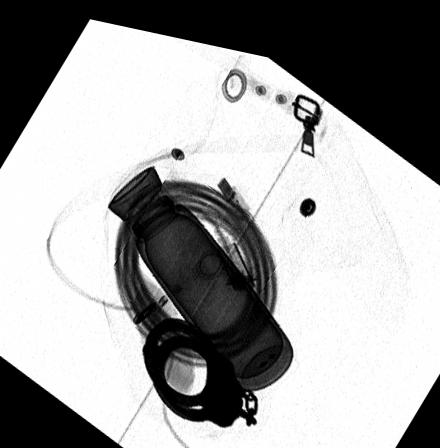HandCuffs: (140, 310, 257, 418)
